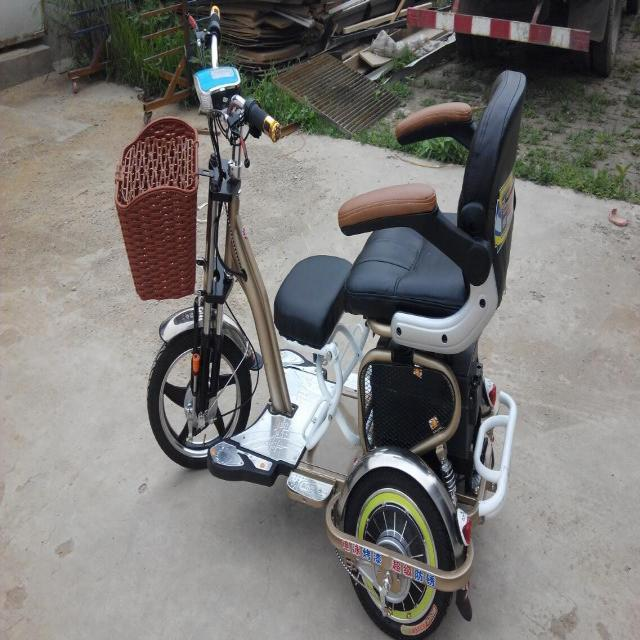tricycle: (118, 6, 528, 639)
